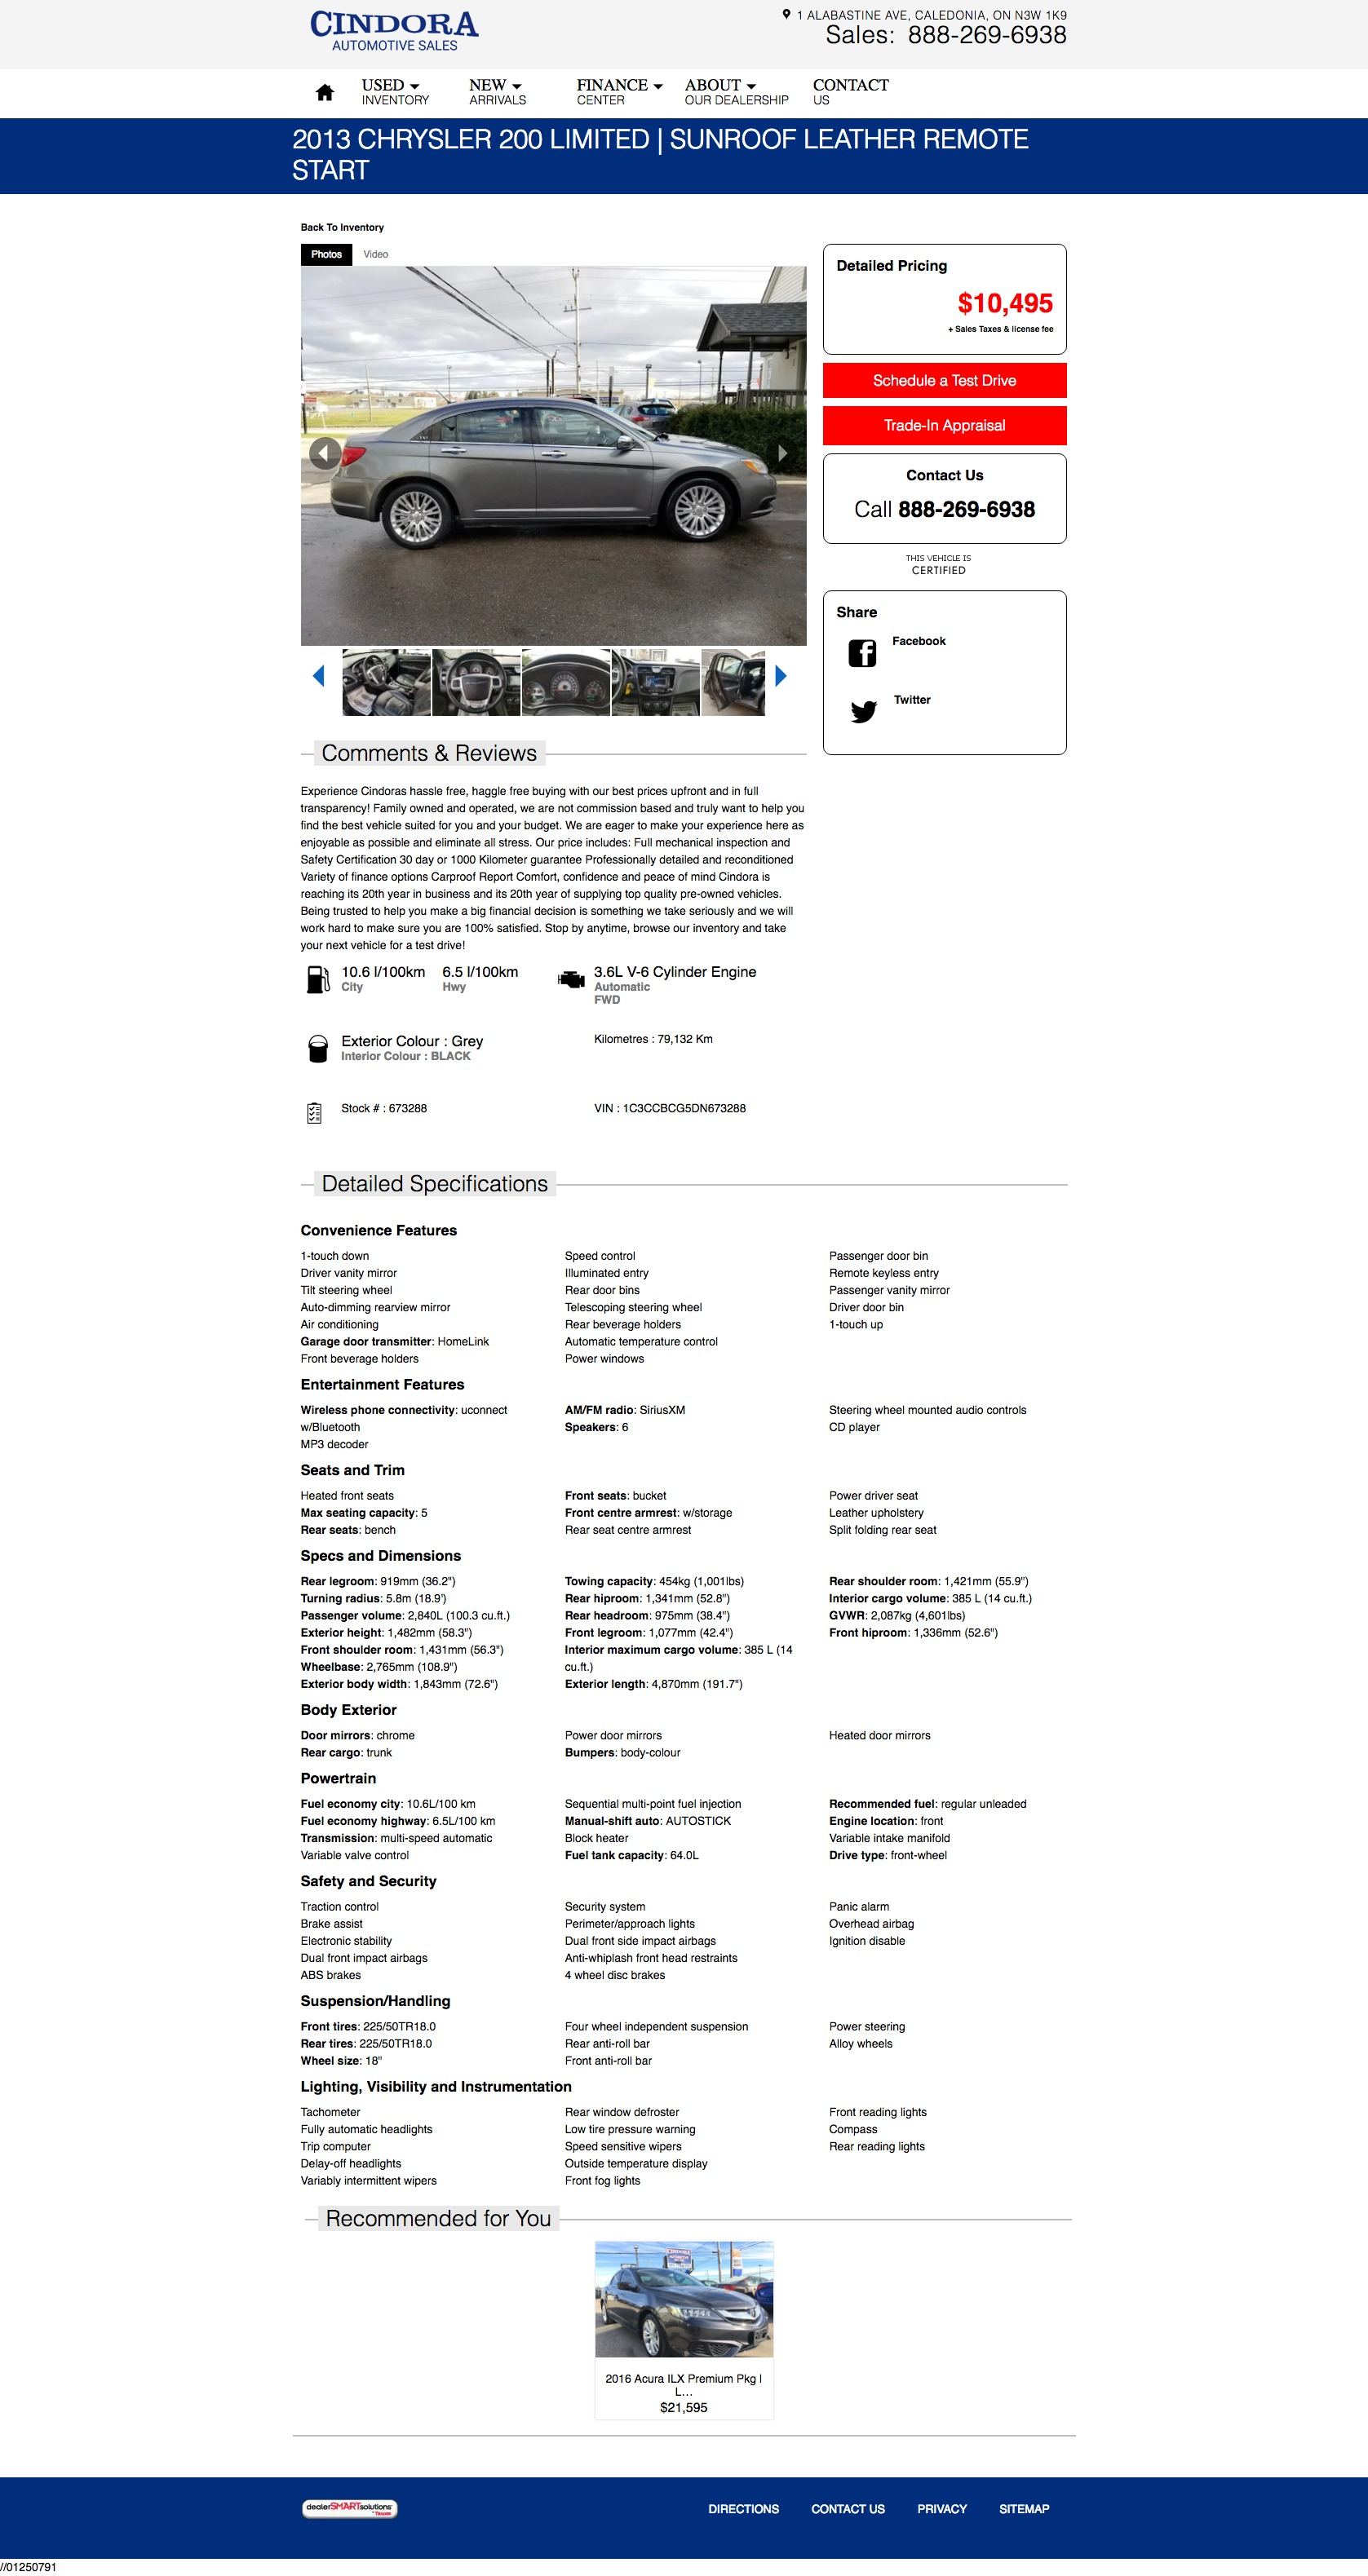car: (773, 664, 789, 688)
